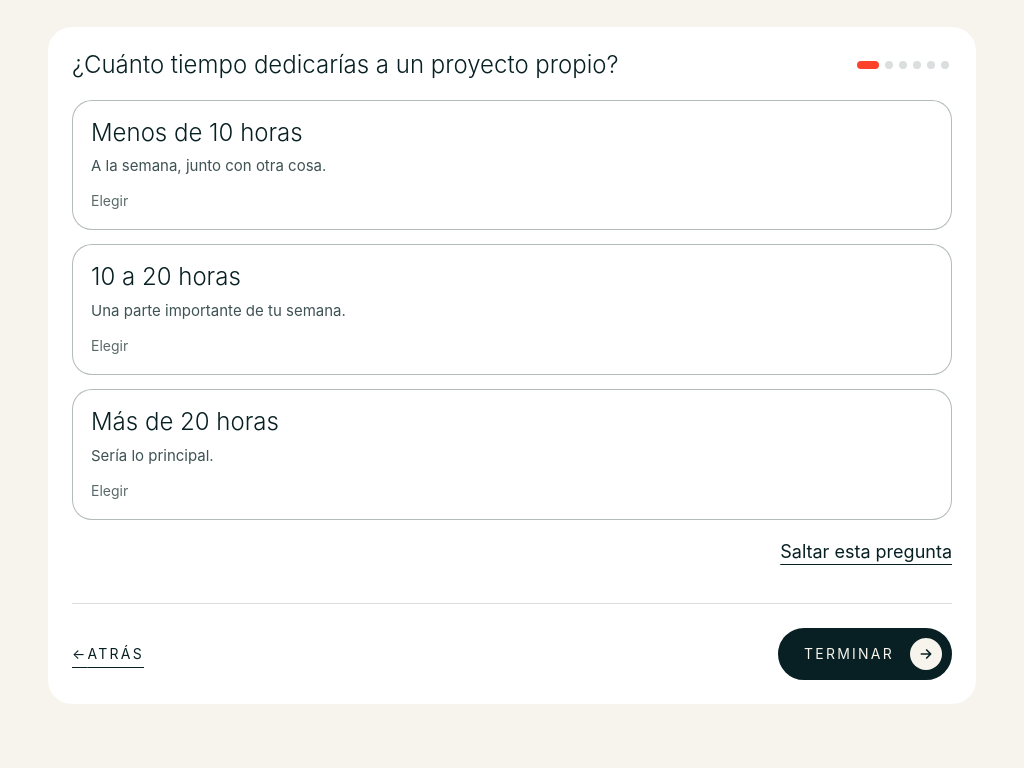
Test: FormaView › si no se pudo guardar, avisa y no navega
This screenshot has width=1024, height=768.
(page scrolled)
Click the button "Terminar": [865, 654] box [778,628,952,680]
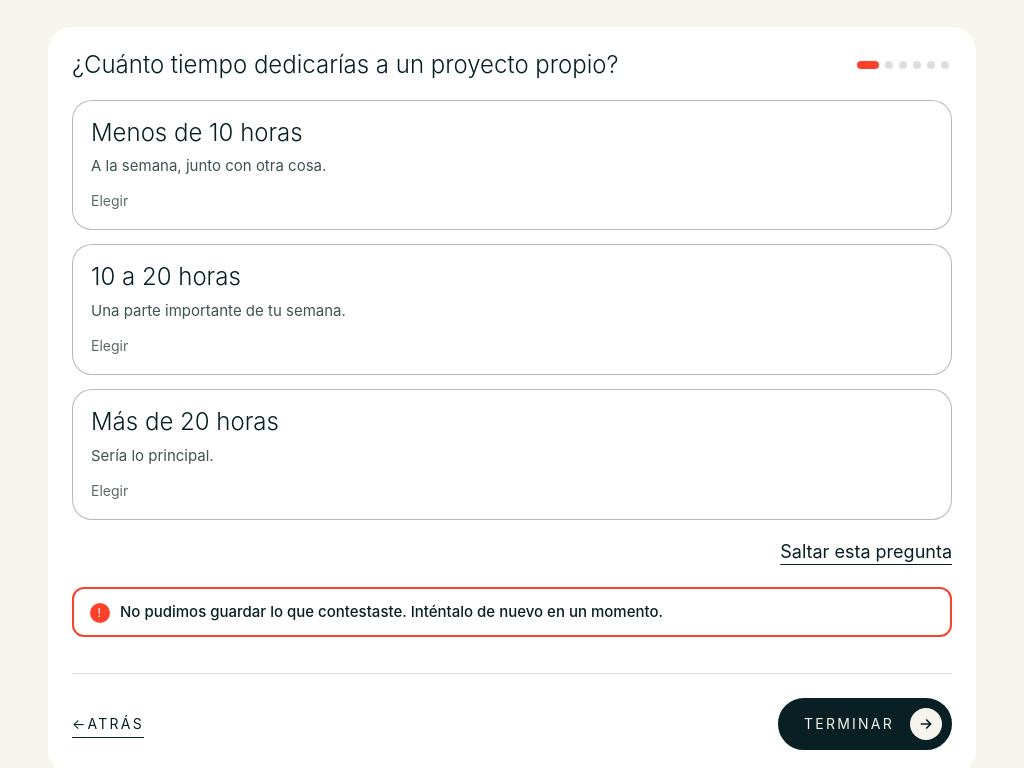
Expected: the message shows "No pudimos guardar lo que contestaste. Inténtalo de nuevo en un momento.", [120,602,663,621]
